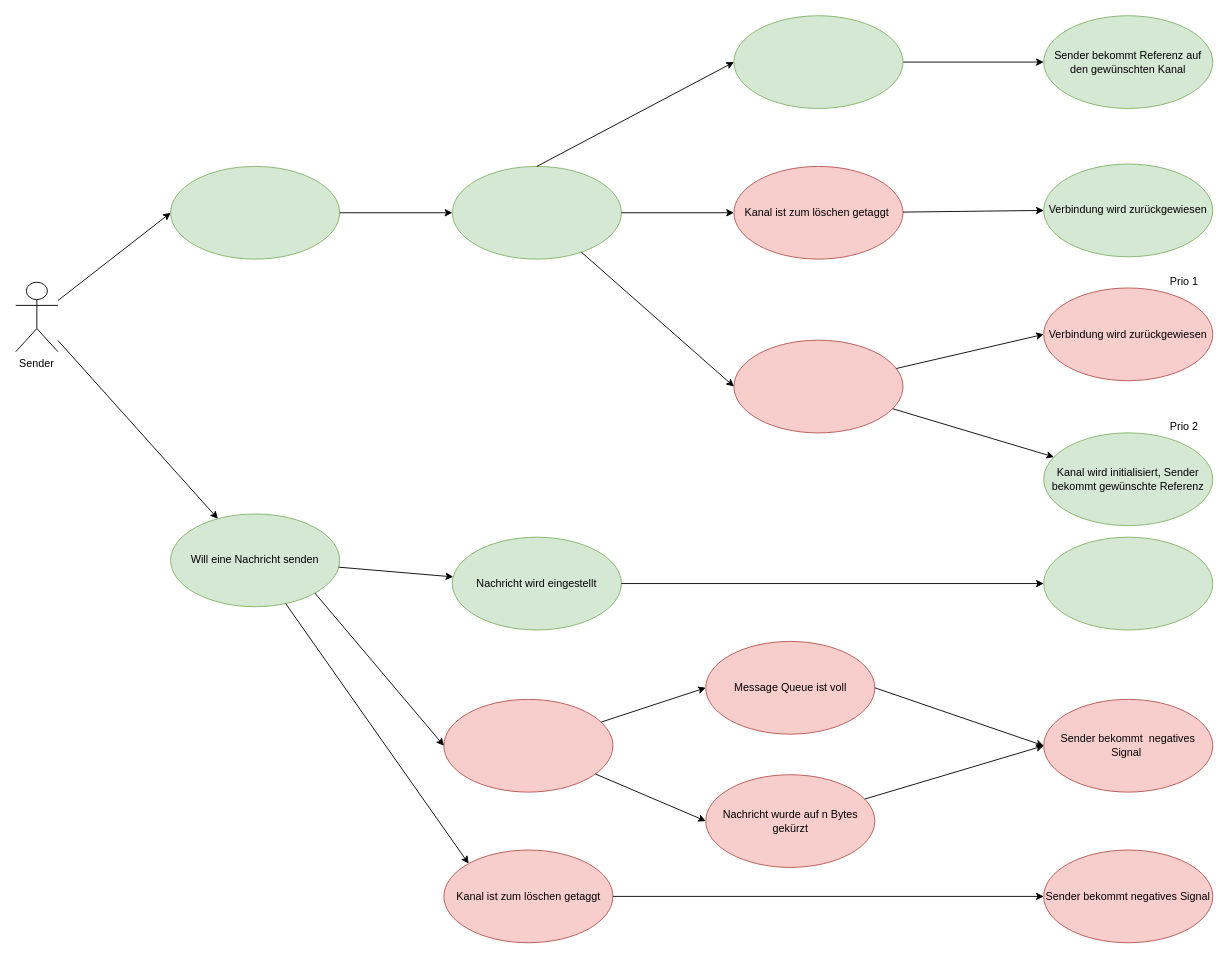
Image size: 1229x959. Some labels were removed from this diagram. The shapes that lost their labels are listed below. From the top down, each one's centre as x and y in pixels, then its label:
(x=818, y=61): Kanal ist nicht zum löschen getaggt
(x=255, y=212): Will sich in einem Chanel anmelden
(x=536, y=212): Schickt der ConnectUnit eine Verbindungsanfrage
(x=818, y=386): Kanal ist nicht initialisiert
(x=1128, y=583): Sender bekommt positives Signal
(x=528, y=745): Nachricht ist länger als Speicher auf Kanal
